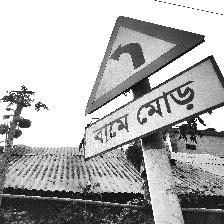Left-Turn: (82, 15, 224, 157)
